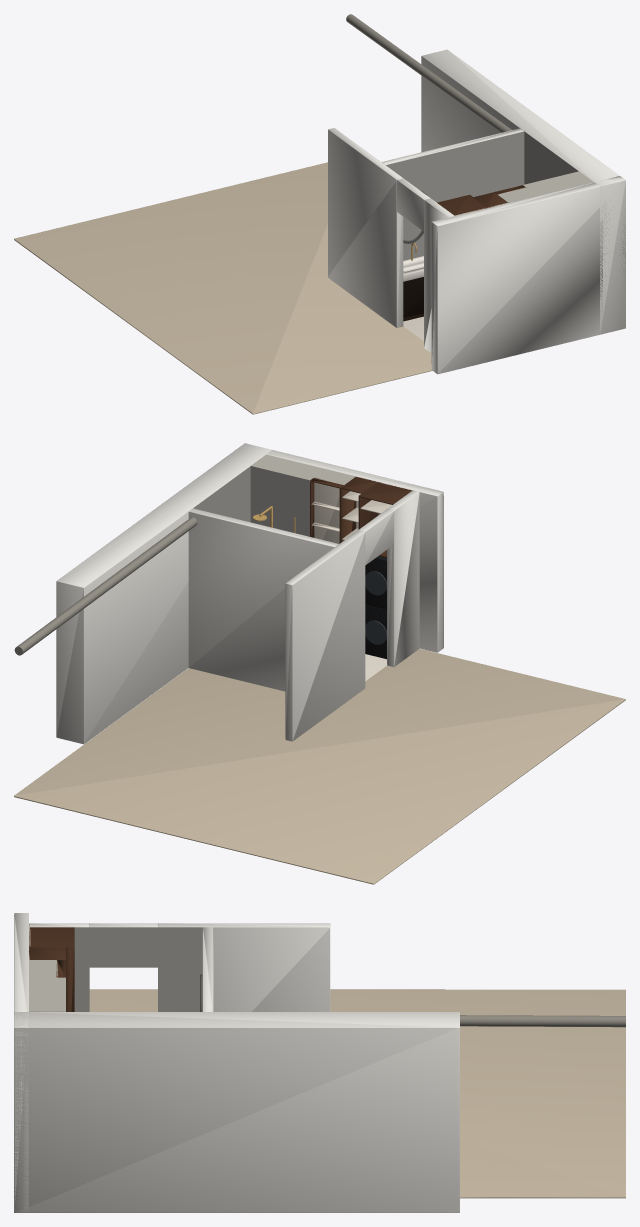
File: bathroom_baked.glb
3 renders of one model, top to bottom at view 1: azimuth 30°, elevation 25°; view 2: azimuth 150°, elevation 25°; view 3: azimuth 270°, elevation 25°, orthographic. The views are drawn at different scales.
Parts seen in each view (by area): view 1: bathroom; view 2: bathroom; view 3: bathroom.
Part boxes in pixels (box(x1,y1,x2,y2)): bathroom: box(14, 14, 625, 414); bathroom: box(14, 443, 625, 884); bathroom: box(14, 913, 625, 1212).
Size of the model in its own units: 6.99 by 2.72 by 8.08.
